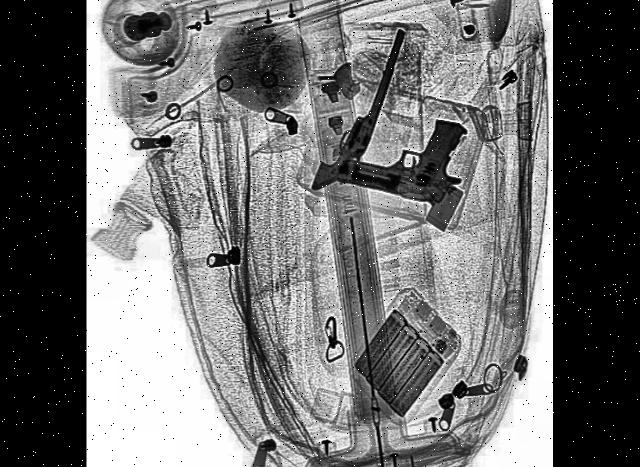Gun: (309, 7, 410, 212), (336, 92, 467, 214)
